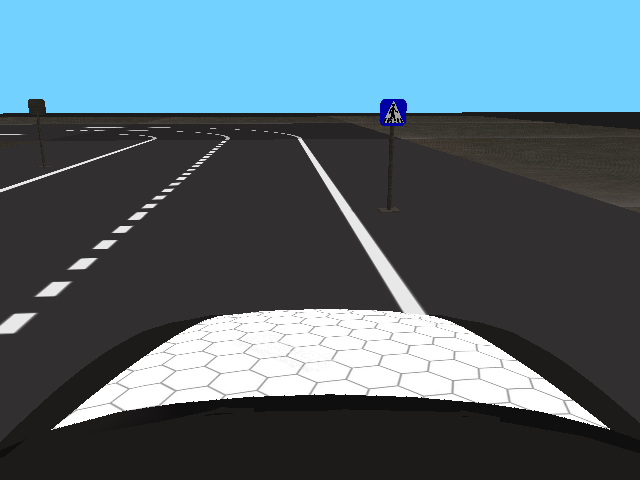pedestrian_cross: (379, 98, 407, 127)
